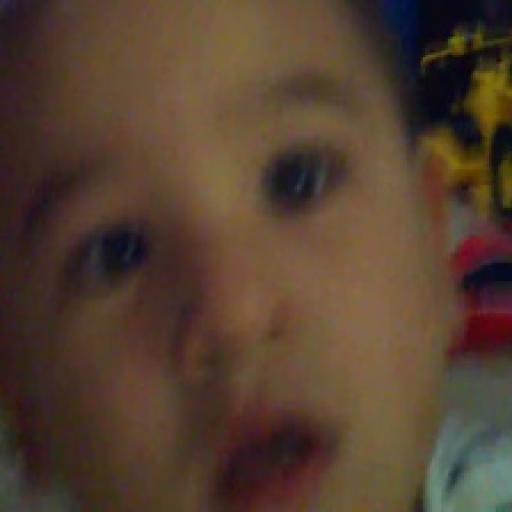Autism: (0, 0, 475, 512)
